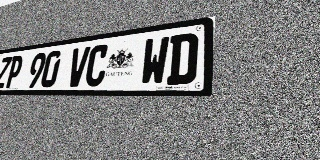0: (39, 50, 62, 87)
9: (26, 52, 48, 88)
C: (84, 44, 110, 87)
D: (166, 32, 199, 85)
P: (4, 55, 24, 88)
V: (66, 46, 91, 87)
W: (139, 36, 170, 85)
Z: (0, 56, 13, 88)
